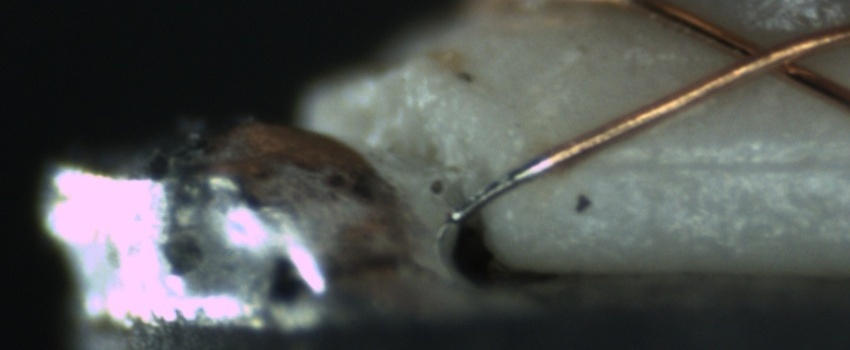CL: (704, 27, 829, 87)
DL: (571, 131, 845, 196)
TS: (448, 158, 549, 221)
TTCW: (437, 128, 599, 230)
